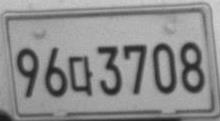0: (151, 42, 177, 95)
3: (97, 45, 122, 95)
6: (43, 46, 68, 97)
7: (122, 44, 147, 95)
8: (178, 40, 205, 93)
9: (15, 46, 39, 98)
다: (68, 54, 94, 96)
